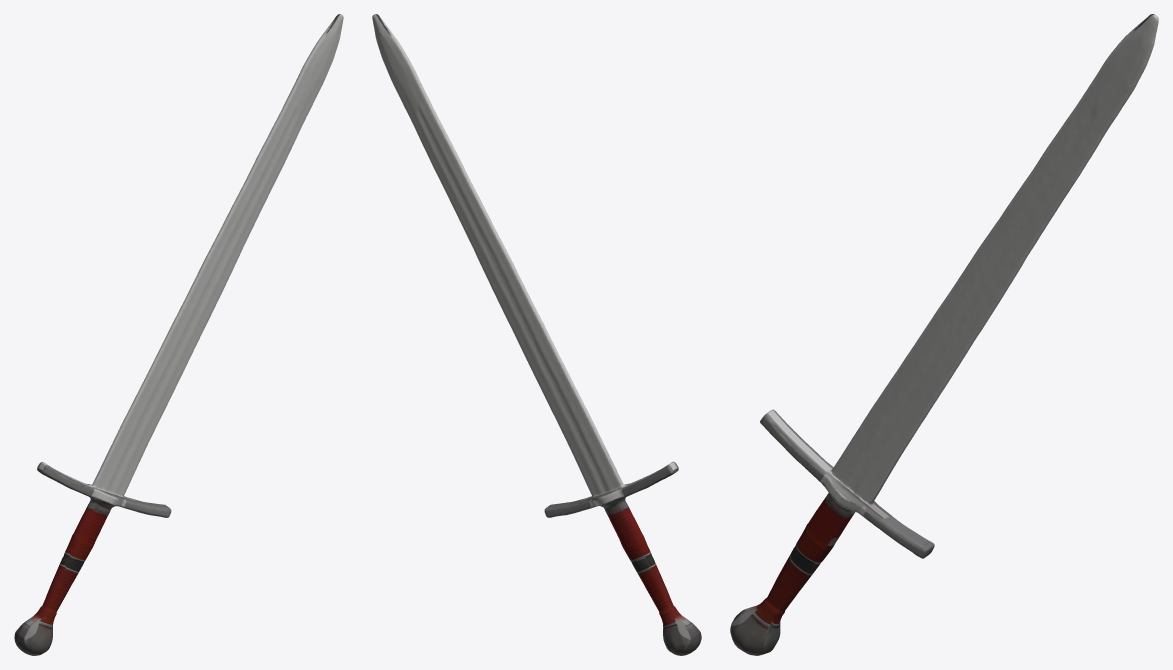
The model's file is Sword.fbx.
3 renders of one model, left to right at view 1: azimuth 30°, elevation 25°; view 2: azimuth 150°, elevation 25°; view 3: azimuth 330°, elevation 25°, orthographic. The views are drawn at different scales.
Parts seen in each view (by area): view 1: tripo_node_3621ddfd; view 2: tripo_node_3621ddfd; view 3: tripo_node_3621ddfd.
Part boxes in pixels (<box>): tripo_node_3621ddfd: <box>14,14,343,655</box>; tripo_node_3621ddfd: <box>372,14,701,655</box>; tripo_node_3621ddfd: <box>730,14,1158,655</box>.
Bounding box in the file's own units: 0.6037 × 1 × 0.0568.
1 material, 1 textured.
